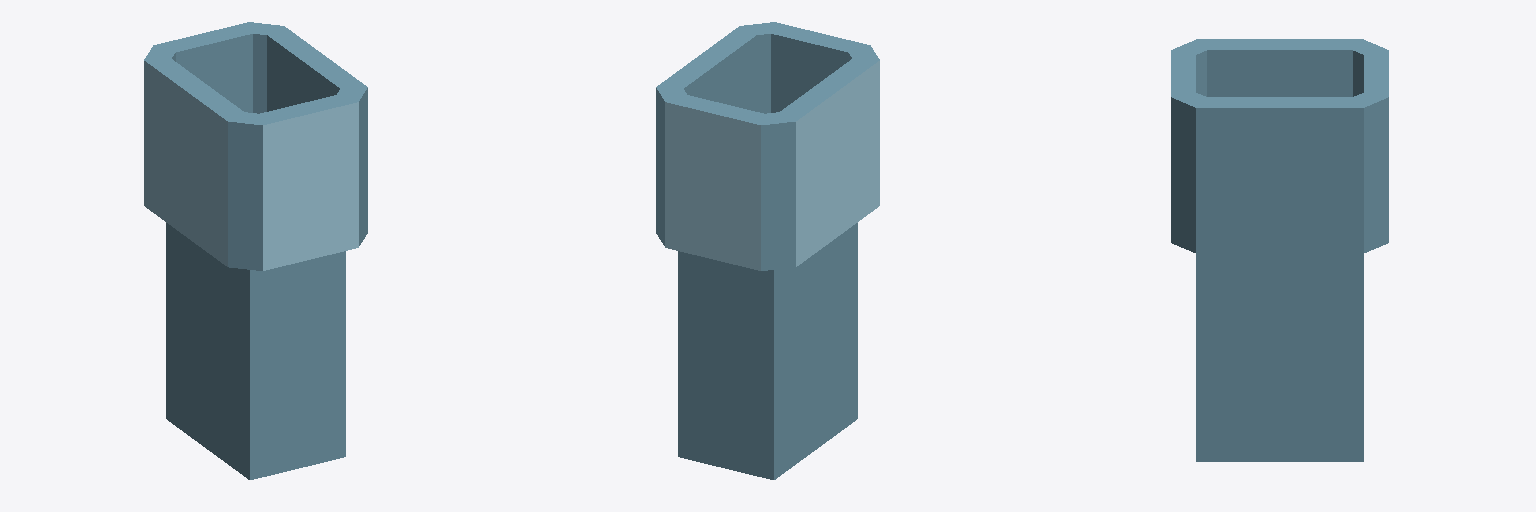
File: chimneyTop.obj
3 renders of one model, left to right at view 1: azimuth 30°, elevation 25°; view 2: azimuth 150°, elevation 25°; view 3: azimuth 270°, elevation 25°, orthographic.
Parts seen in each view (by area): view 1: chimneyTop; view 2: chimneyTop; view 3: chimneyTop.
Boxes of the visible parts, x1=… form: chimneyTop: x1=144, y1=22, x2=367, y2=479; chimneyTop: x1=656, y1=22, x2=879, y2=479; chimneyTop: x1=1171, y1=39, x2=1388, y2=461.
Bounding box in the file's own units: 0.2519 × 0.625 × 0.34.